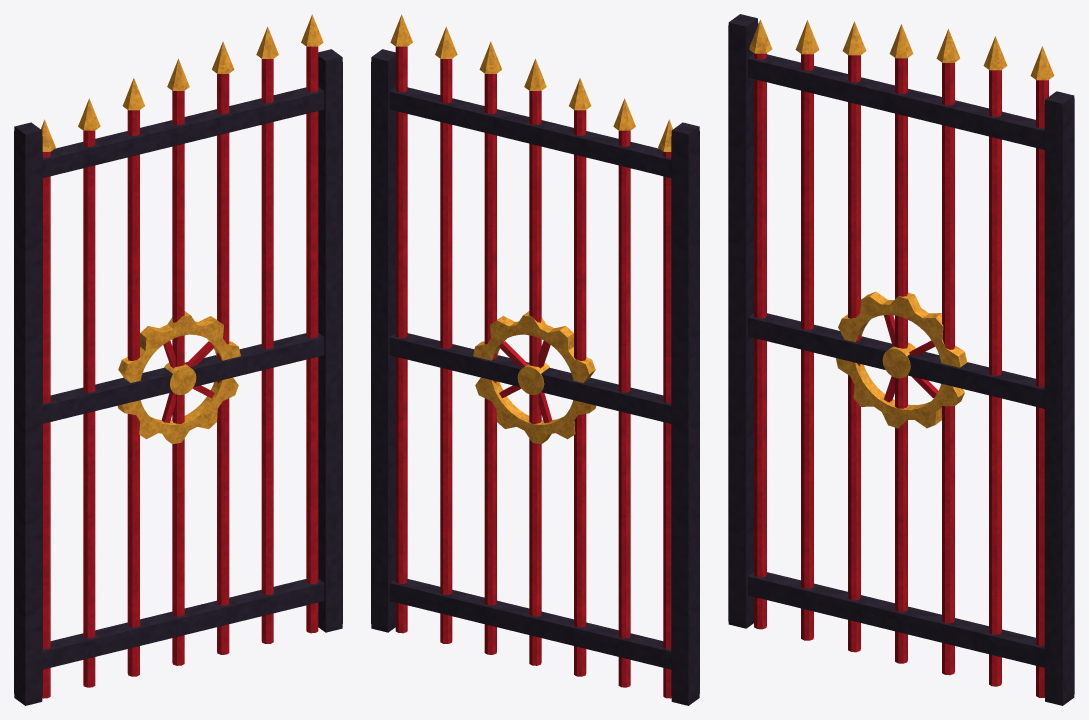
Rendered from CHO_ExitGateDoorL.fbx.
3 views of the same model, side by side, from view 1: azimuth 30°, elevation 25°; view 2: azimuth 150°, elevation 25°; view 3: azimuth 330°, elevation 25° (orthographic). The views are drawn at different scales.
Parts seen in each view (by area): view 1: CHO_ExitGateDoorL; view 2: CHO_ExitGateDoorL; view 3: CHO_ExitGateDoorL.
Boxes of the visible parts, x1,y1,x2,y2 form: CHO_ExitGateDoorL: (14,14,342,705); CHO_ExitGateDoorL: (371,14,699,705); CHO_ExitGateDoorL: (728,14,1074,705).
Size of the model in its own units: 2.91 by 5.39 by 0.18.
